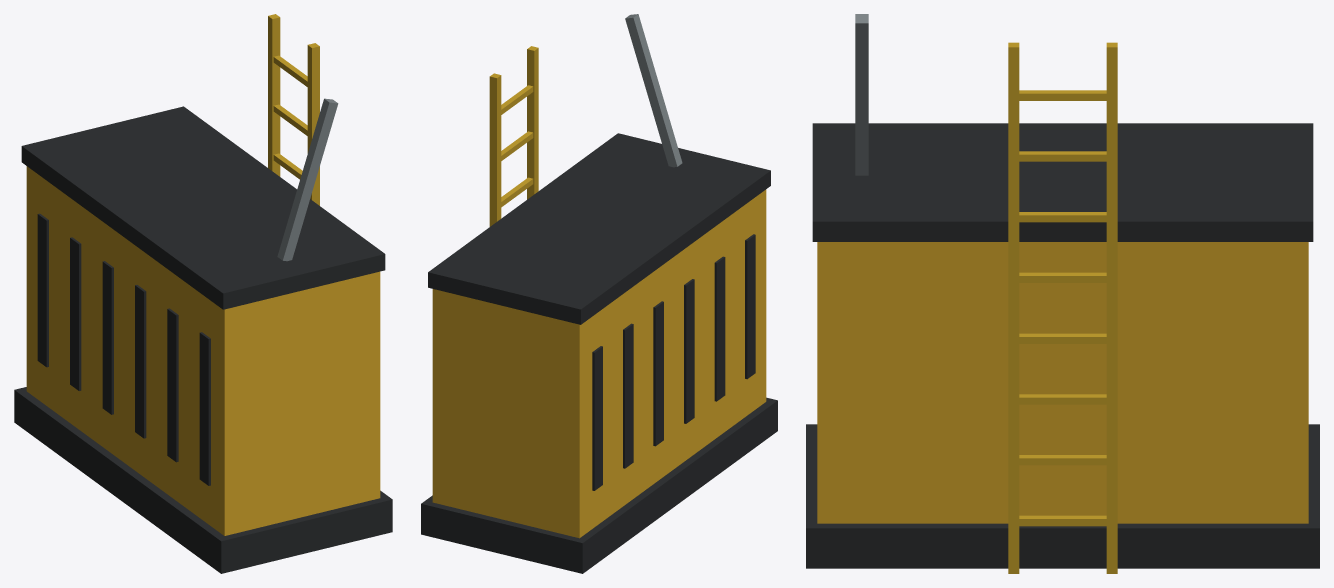
Rendered from generator.glb.
3 renders of one model, left to right at view 1: azimuth 30°, elevation 25°; view 2: azimuth 150°, elevation 25°; view 3: azimuth 270°, elevation 25°, orthographic. The views are drawn at different scales.
Visible parts, largest first — view 1: generator; view 2: generator; view 3: generator.
Part boxes in pixels (<box>): generator: <box>14,14,392,573</box>; generator: <box>421,14,777,573</box>; generator: <box>806,14,1319,573</box>.
Bounding box in the file's own units: 1.15 × 2.61 × 2.3.
